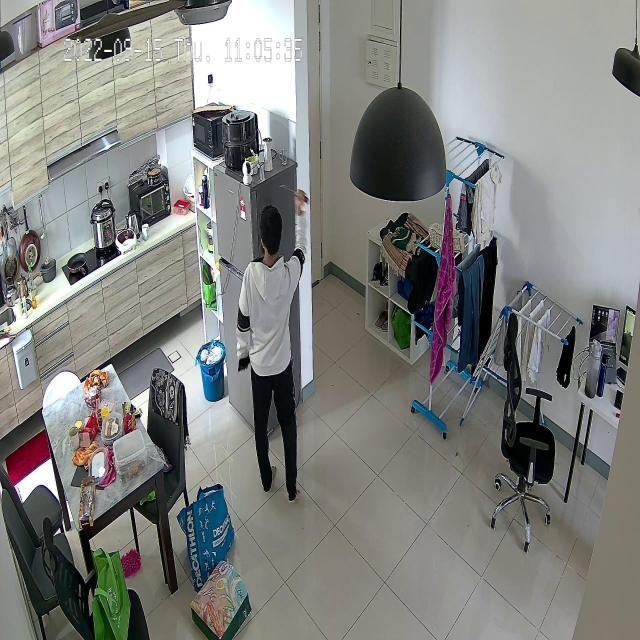Knife: (274, 172, 319, 208)
